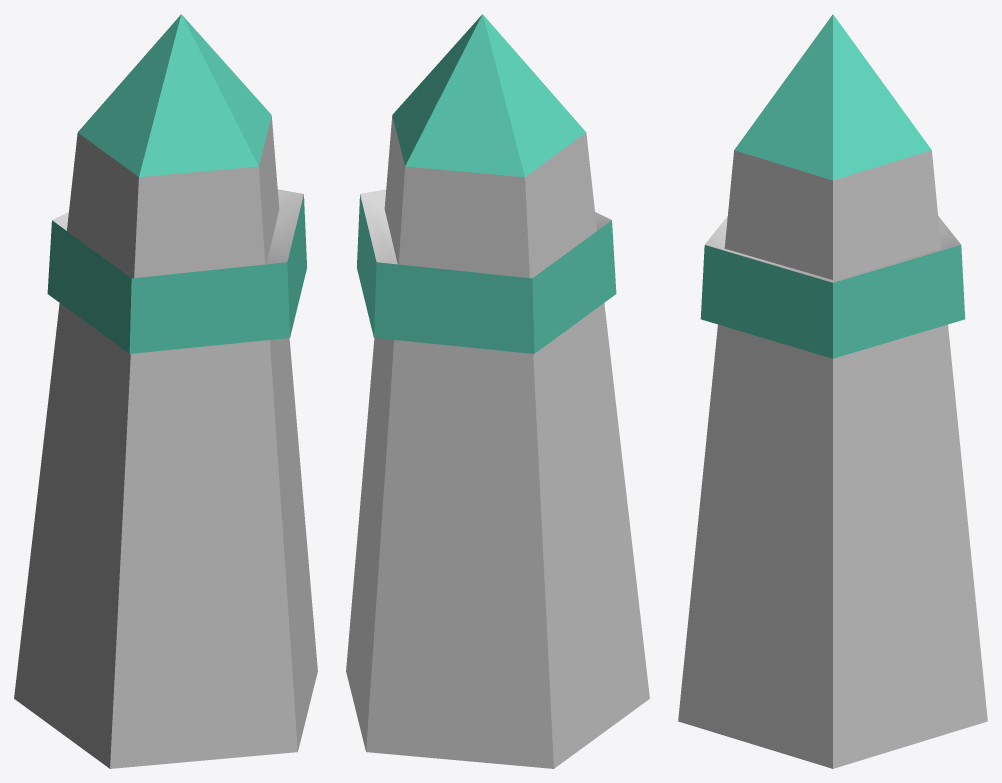
Rendered from castle.fbx.
The picture shows the model from 3 angles, left to right: view 1: azimuth 30°, elevation 25°; view 2: azimuth 150°, elevation 25°; view 3: azimuth 270°, elevation 25°; orthographic projection.
Parts seen in each view (by area): view 1: pCone1; view 2: pCone1; view 3: pCone1.
Boxes of the visible parts, box(x1,y1,x2,y2) form: pCone1: box(14, 14, 317, 768); pCone1: box(346, 14, 649, 768); pCone1: box(678, 14, 987, 768).
Size of the model in its own units: 2.83 by 7.31 by 2.98.
